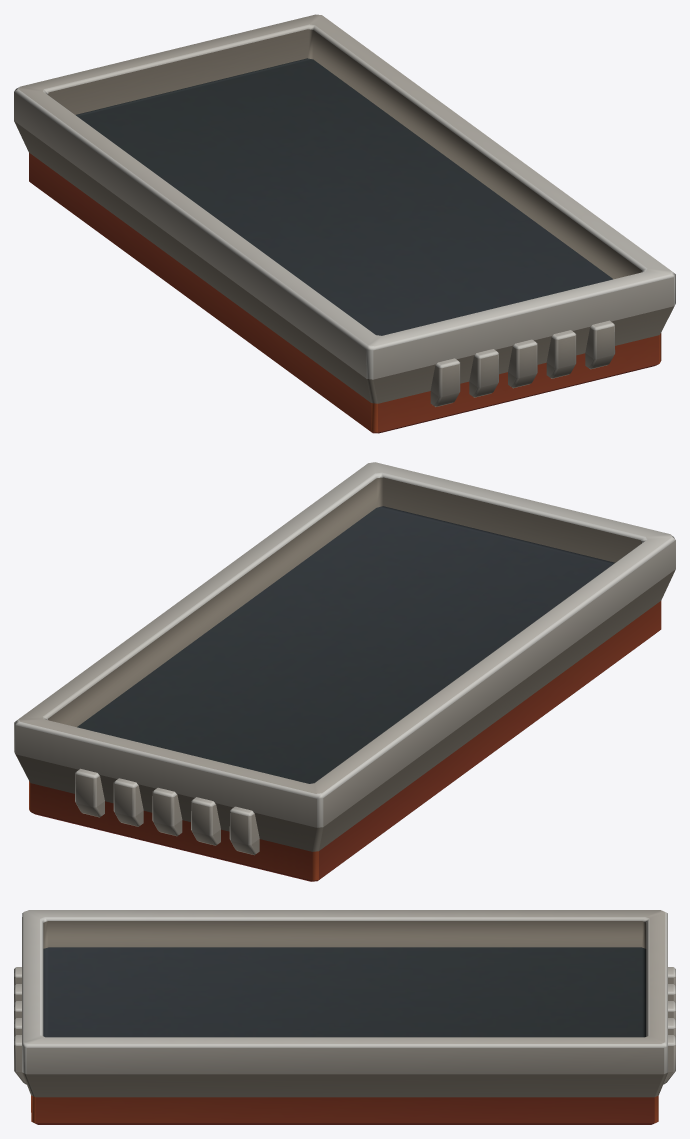
File: office_building_type2_roof_red.fbx
3 views of the same model, one above another, from view 1: azimuth 30°, elevation 25°; view 2: azimuth 150°, elevation 25°; view 3: azimuth 270°, elevation 25° (orthographic). The views are drawn at different scales.
Visible parts, largest first — view 1: office_building_type2_roof_red; view 2: office_building_type2_roof_red; view 3: office_building_type2_roof_red.
Boxes of the visible parts, x1,y1,x2,y2 form: office_building_type2_roof_red: [14, 14, 675, 433]; office_building_type2_roof_red: [14, 462, 675, 881]; office_building_type2_roof_red: [14, 910, 675, 1124].
Bounding box in the file's own units: 800 × 232 × 1640.
